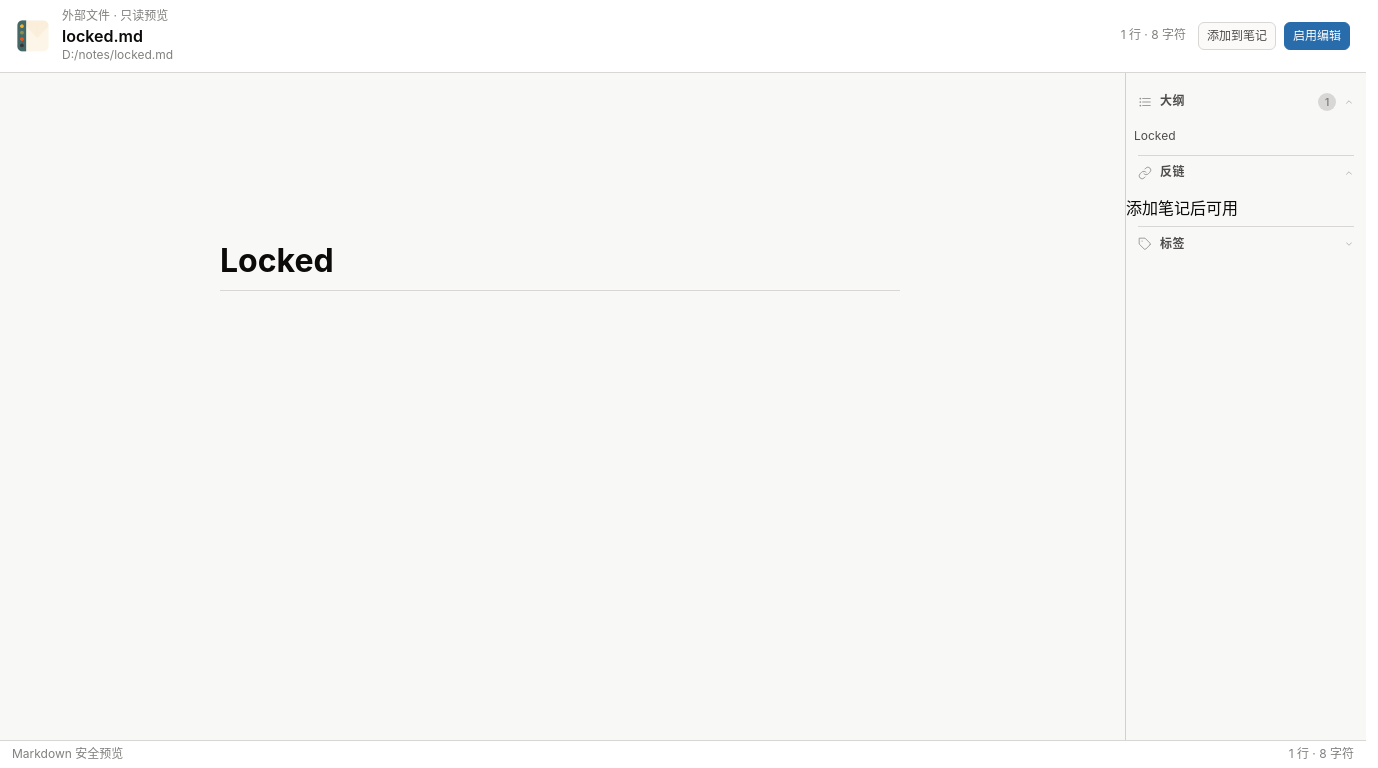
ExternalReaderPage › keeps the enable-edit retry entry when enabling edit fails with a structured code
Expected: the heading "Locked" is shown, [220,241,900,291]
Click the button "启用编辑" at (1317, 36), box [1284,22,1350,50]
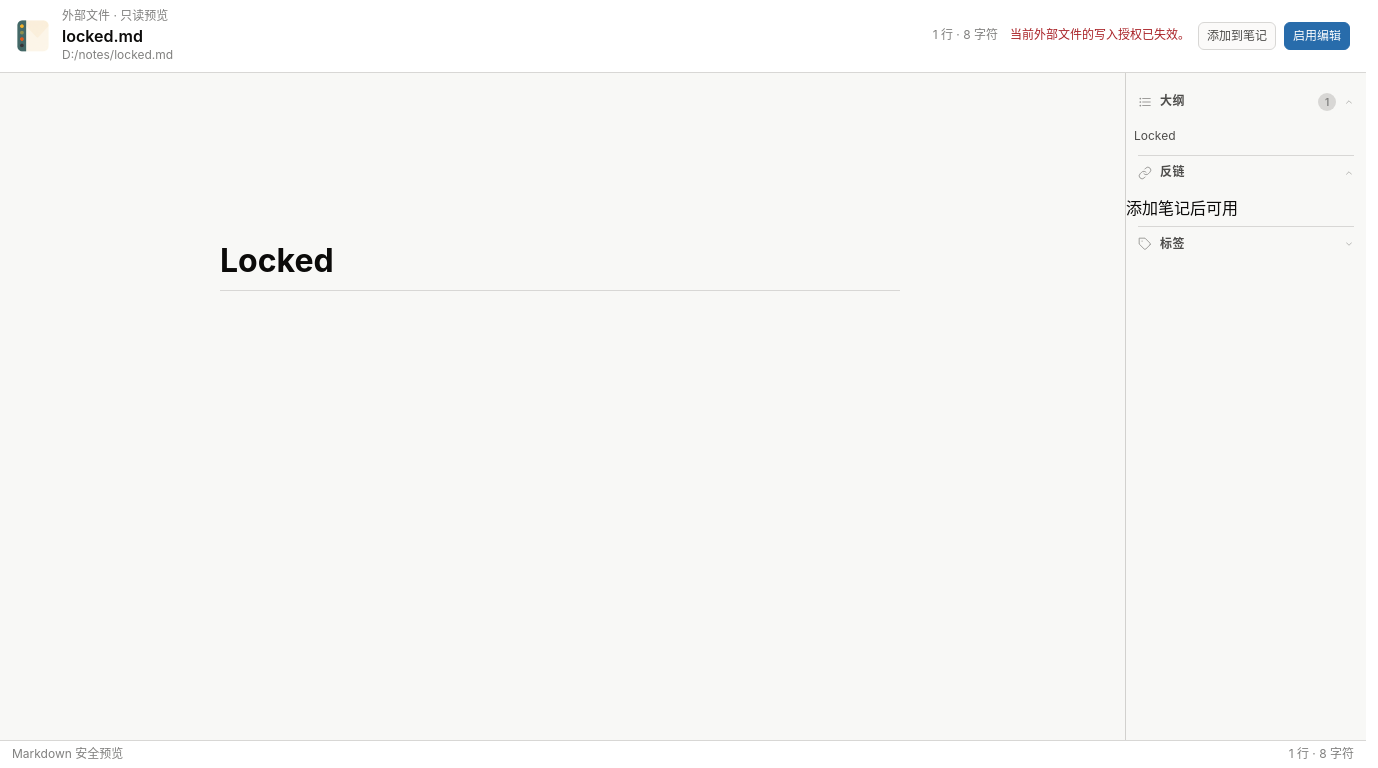
Expected: the heading "Locked" is shown, [220,241,900,291]
Expected: the message with test id "external-reader-action-error" reads "当前外部文件的写入授权已失效。", [1010,27,1190,42]
